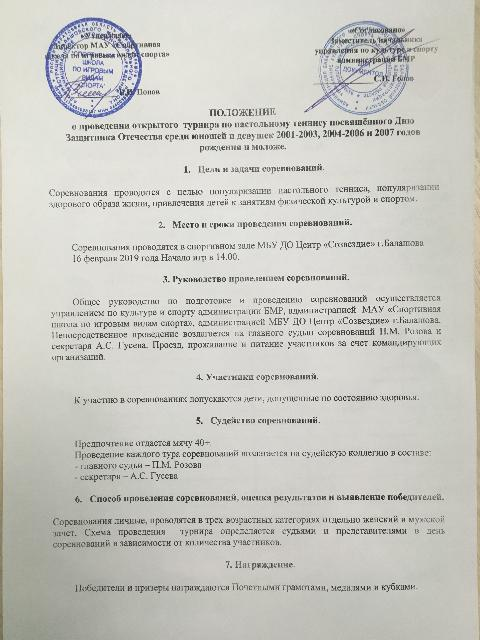stamp: (44, 19, 142, 119), (317, 20, 411, 116)
